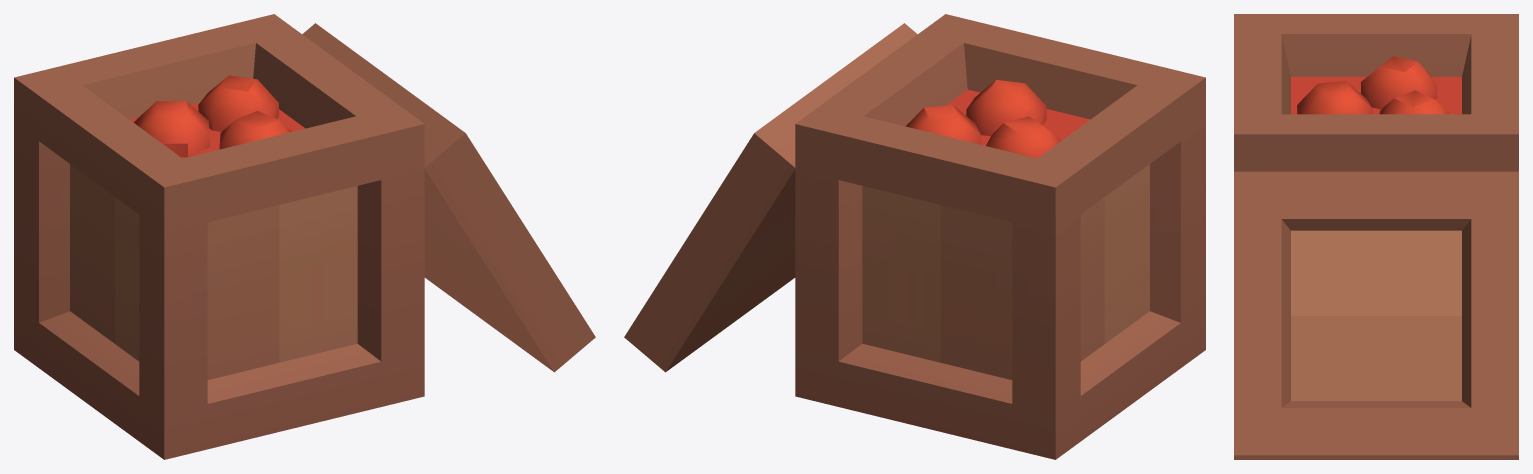
File: kk_crate_open_v1.glb
The picture shows the model from 3 angles, left to right: view 1: azimuth 30°, elevation 25°; view 2: azimuth 150°, elevation 25°; view 3: azimuth 270°, elevation 25°; orthographic projection. The views are drawn at different scales.
Parts seen in each view (by area): view 1: crate_open; view 2: crate_open; view 3: crate_open.
Part boxes in pixels (bbox=[...]): crate_open: bbox=[14, 14, 595, 459]; crate_open: bbox=[624, 14, 1205, 459]; crate_open: bbox=[1234, 14, 1518, 459].
Bounding box in the file's own units: 0.3316 × 0.2056 × 0.2.
Materials: 1 (1 with a texture image).
